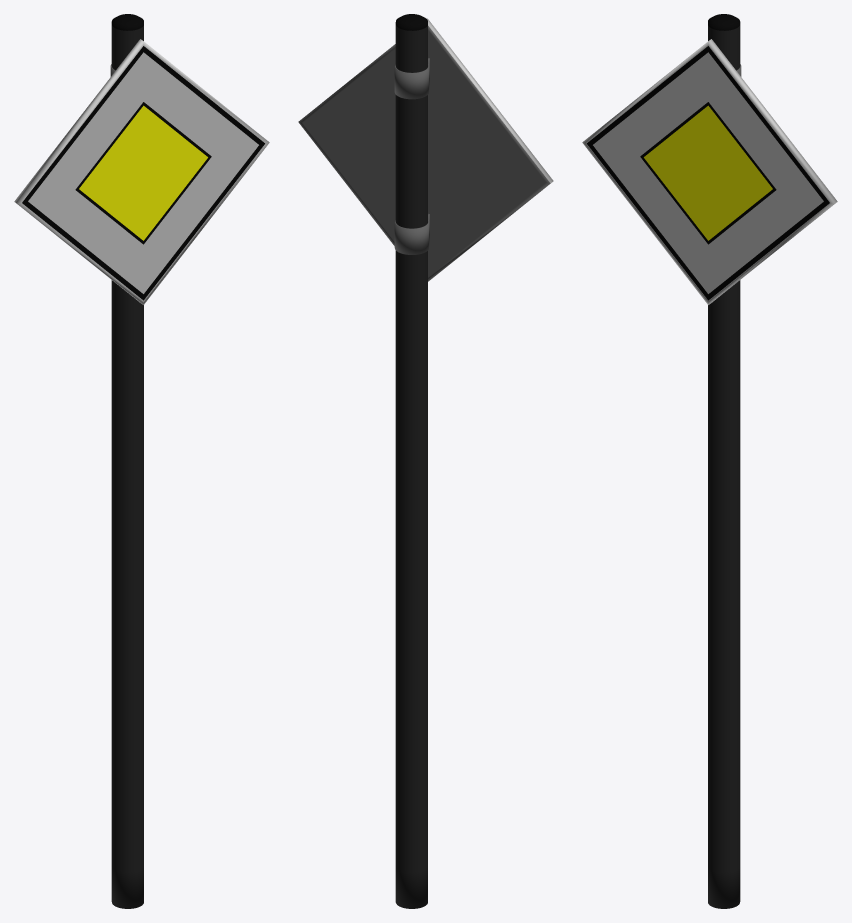
The model's file is Vorfahrt.obj.
The picture shows the model from 3 angles, left to right: view 1: azimuth 30°, elevation 25°; view 2: azimuth 150°, elevation 25°; view 3: azimuth 330°, elevation 25°; orthographic projection.
Visible parts, largest first — view 1: Plane_Plane.001; view 2: Plane_Plane.001; view 3: Plane_Plane.001.
Boxes of the visible parts, bbox=[...] form: Plane_Plane.001: bbox=[14, 14, 269, 908]; Plane_Plane.001: bbox=[298, 14, 553, 908]; Plane_Plane.001: bbox=[582, 14, 837, 908].
Size of the model in its own units: 0.9 by 3.01 by 0.1499.
